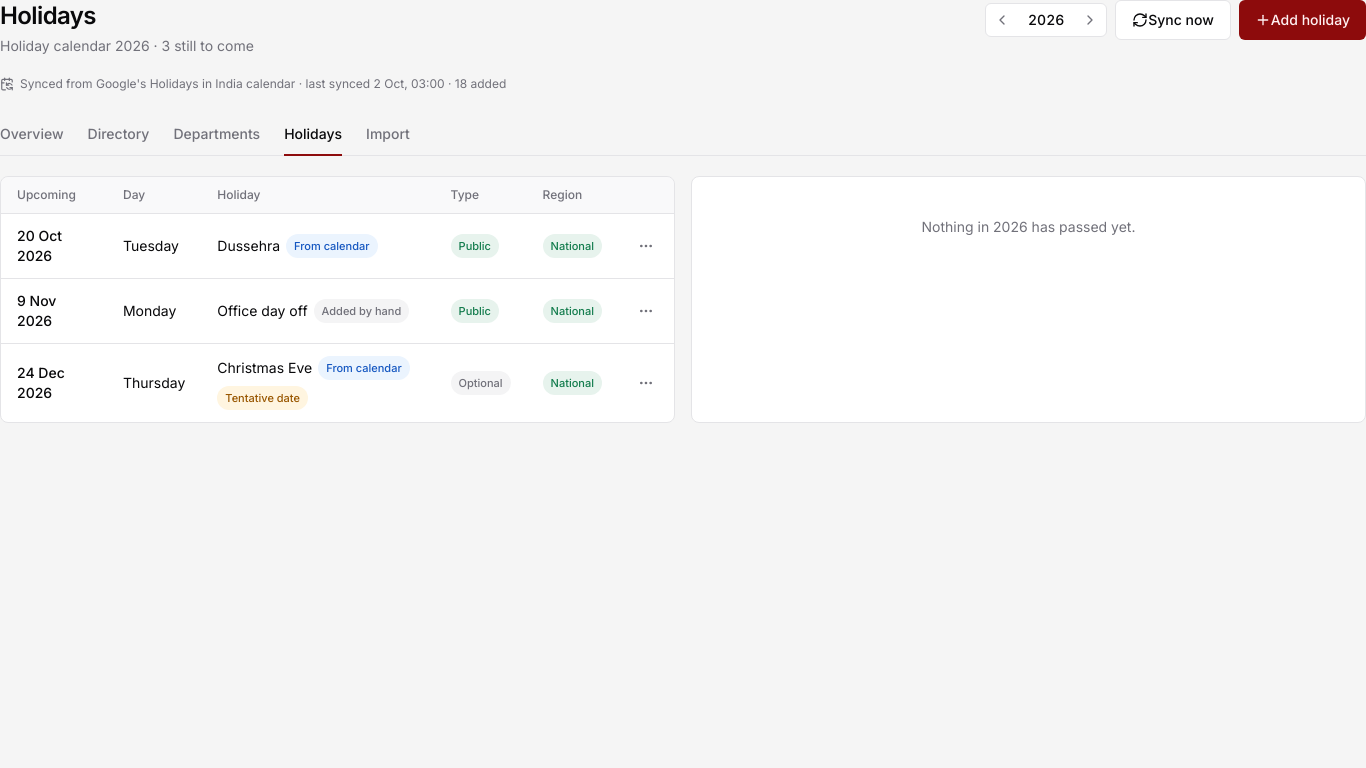
Test: the rows › deleting a typed row does not
This screenshot has width=1366, height=768.
Press the mouse on the button named "Actions for Office day off" at {"x": 646, "y": 310}, box [634, 298, 658, 322]
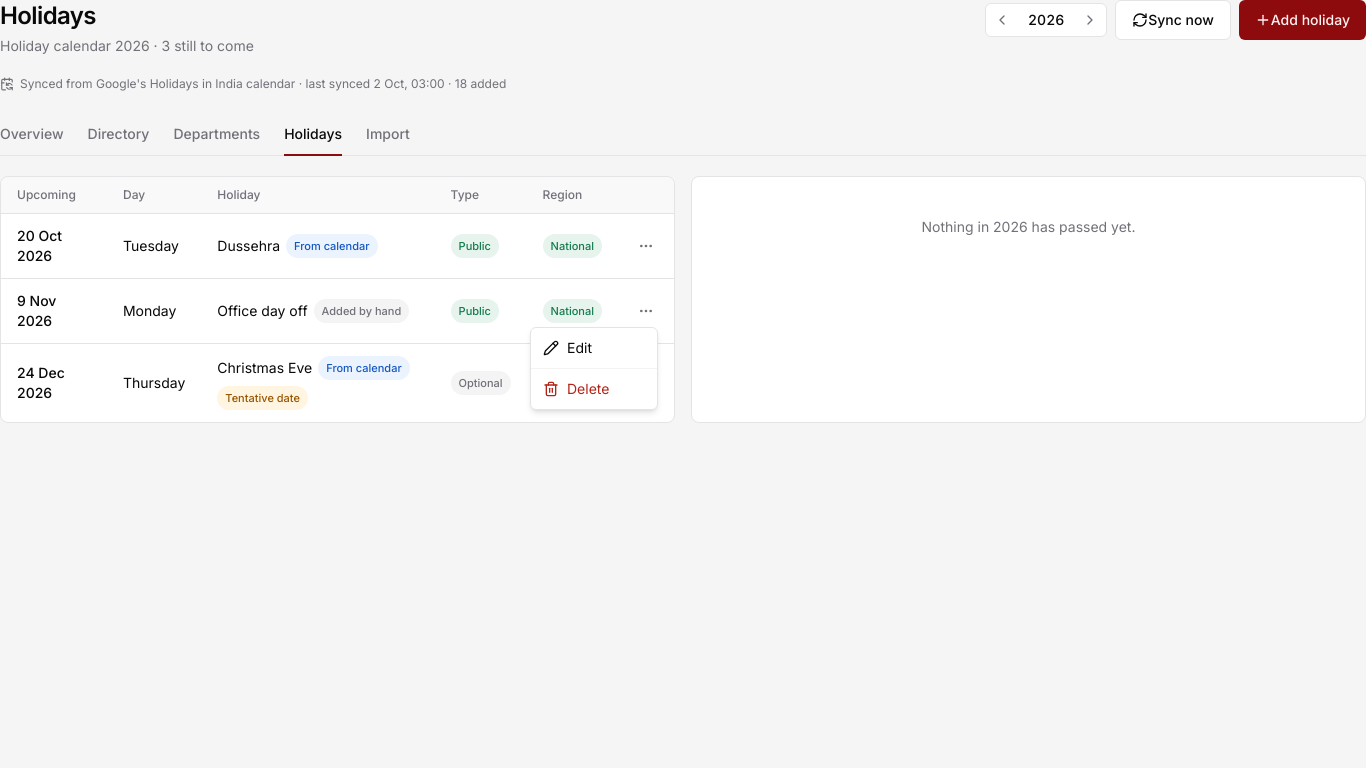
Click the menu item "Delete".
click(576, 388)  # box [543, 380, 609, 397]
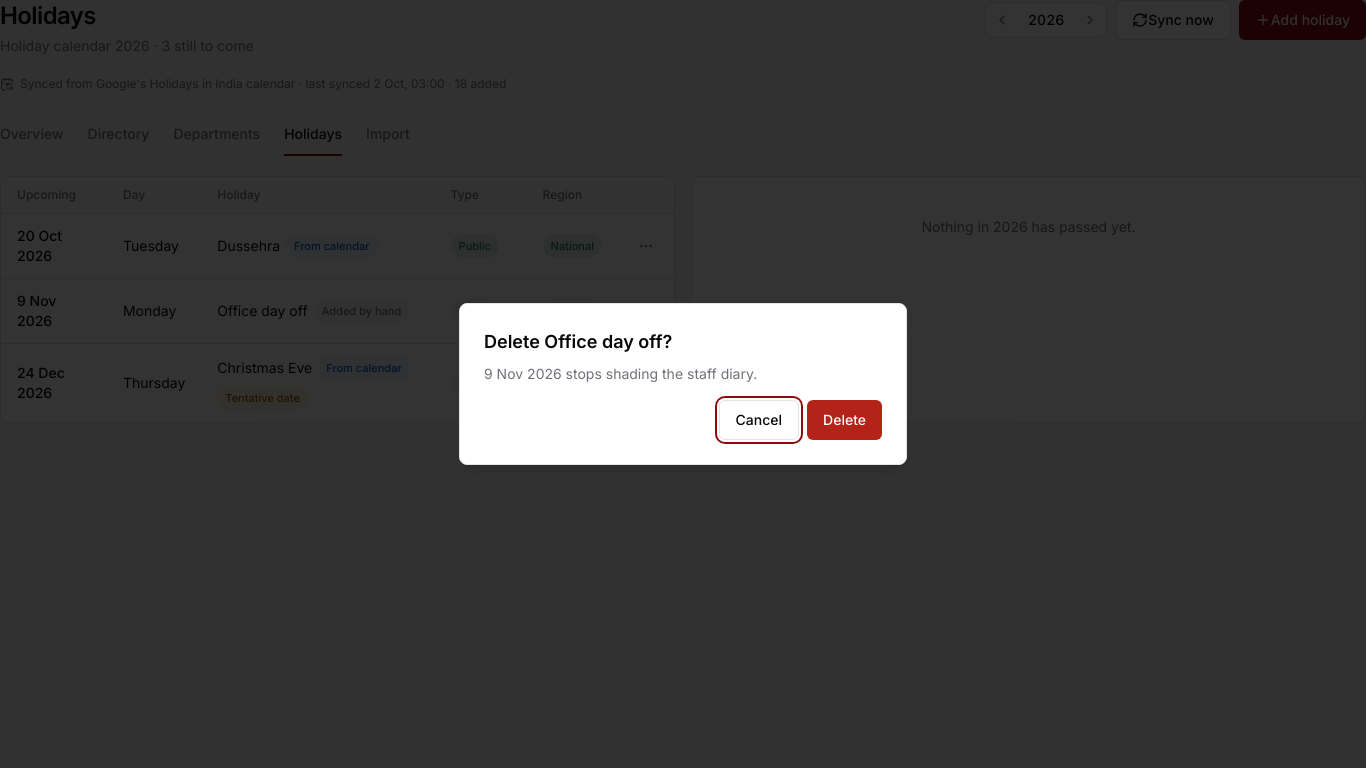
Result: the text "9 Nov 2026 stops shading the staff diary." is shown at [484, 365, 757, 382]
